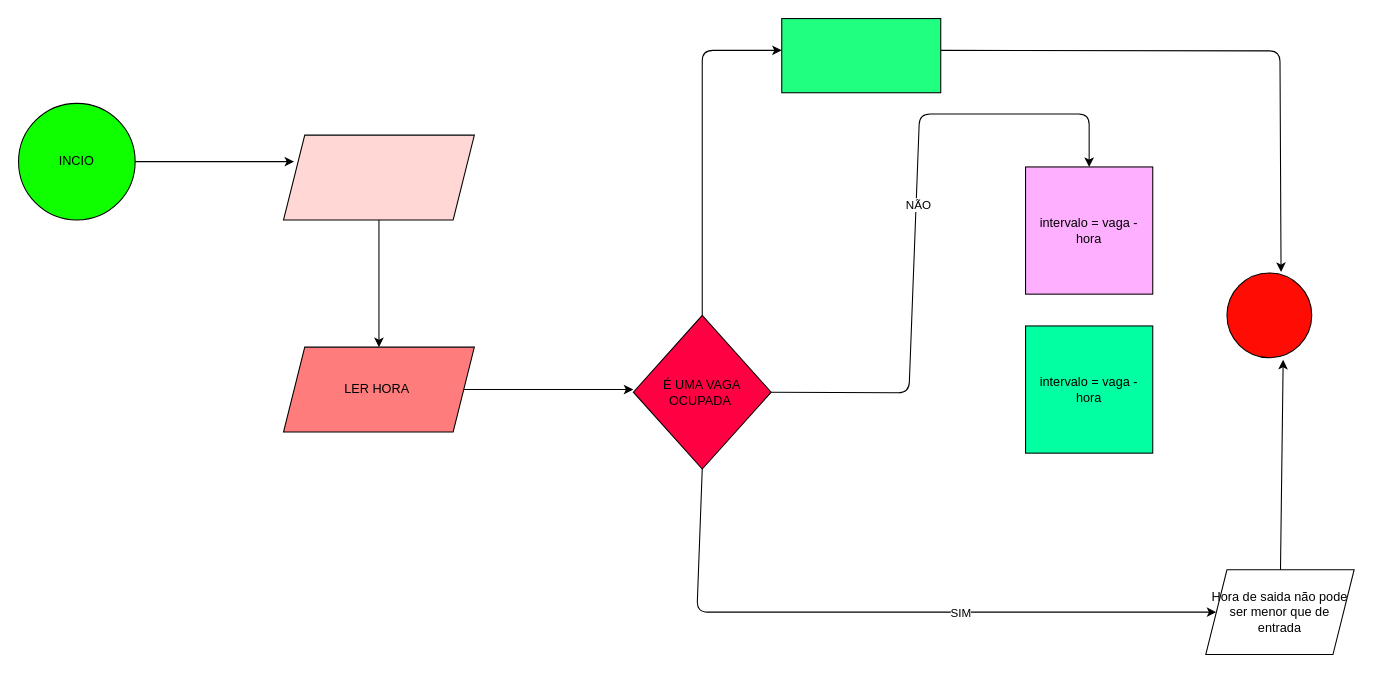
The diagram is 1373 pixels wide and 673 high, and some of its shapes have lost their labels. Here are the shapes that lost their labels. From the top down, the centre of each, then its label:
At pixel 861 55: "vaga X = hora".
At pixel 378 177: "INFORME A HORA".
At pixel 1269 315: "FIM".
